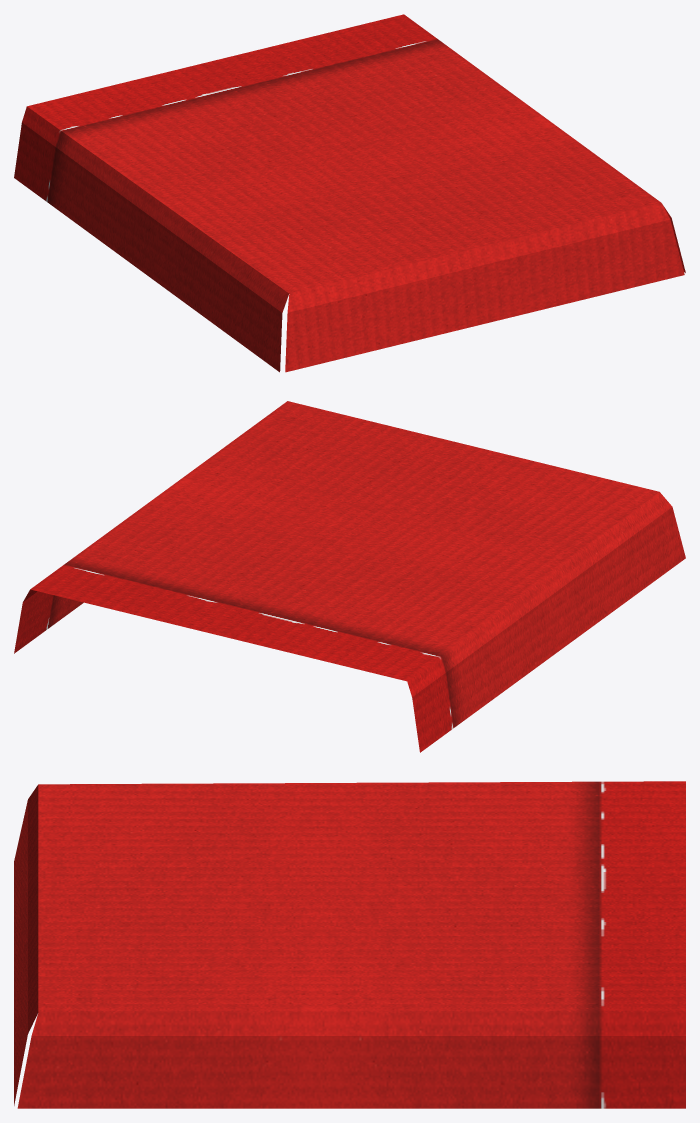
File: In KasurSelimut1.fbx
The picture shows the model from 3 angles, top to bottom: view 1: azimuth 30°, elevation 25°; view 2: azimuth 150°, elevation 25°; view 3: azimuth 270°, elevation 25°; orthographic projection. The views are drawn at different scales.
Visible parts, largest first — view 1: In KasurSelimut1; view 2: In KasurSelimut1; view 3: In KasurSelimut1.
Boxes of the visible parts, left/top/right/bottom form: In KasurSelimut1: left=14, top=14, right=685, bottom=372; In KasurSelimut1: left=14, top=401, right=685, bottom=752; In KasurSelimut1: left=14, top=781, right=685, bottom=1108.
Size of the model in its own units: 5.15 by 0.8291 by 5.87.
